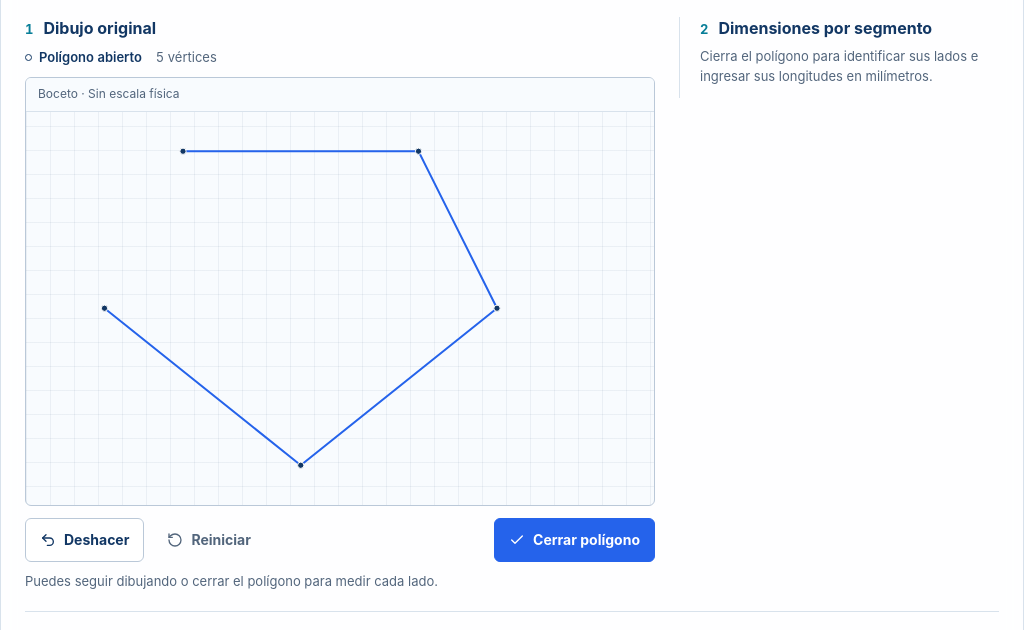
Test: HU-007 T02 — dimensiones y selección (caja negra) › T02-C05: dimensiones completas mantienen Agregar deshabilitado por registro pendiente
Click the button "Cerrar polígono": (575, 540) [494, 518, 655, 562]
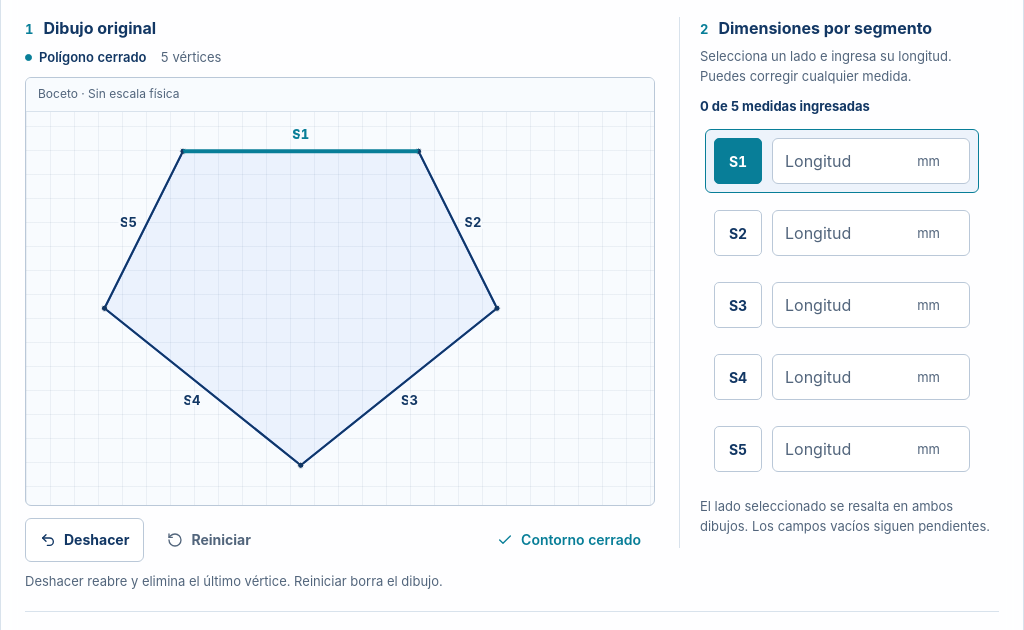
In the 1st number field with placeholder "Longitud": (871, 161) [772, 138, 970, 184], type "850"
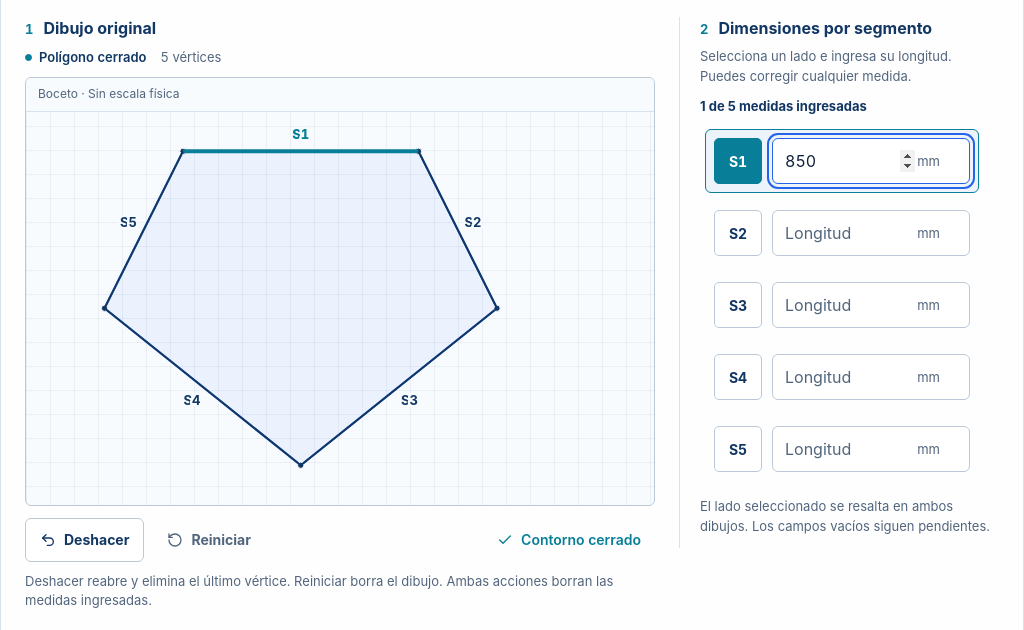
In the 1st number field with placeholder "Longitud": (871, 233) [772, 210, 970, 256], type "420"
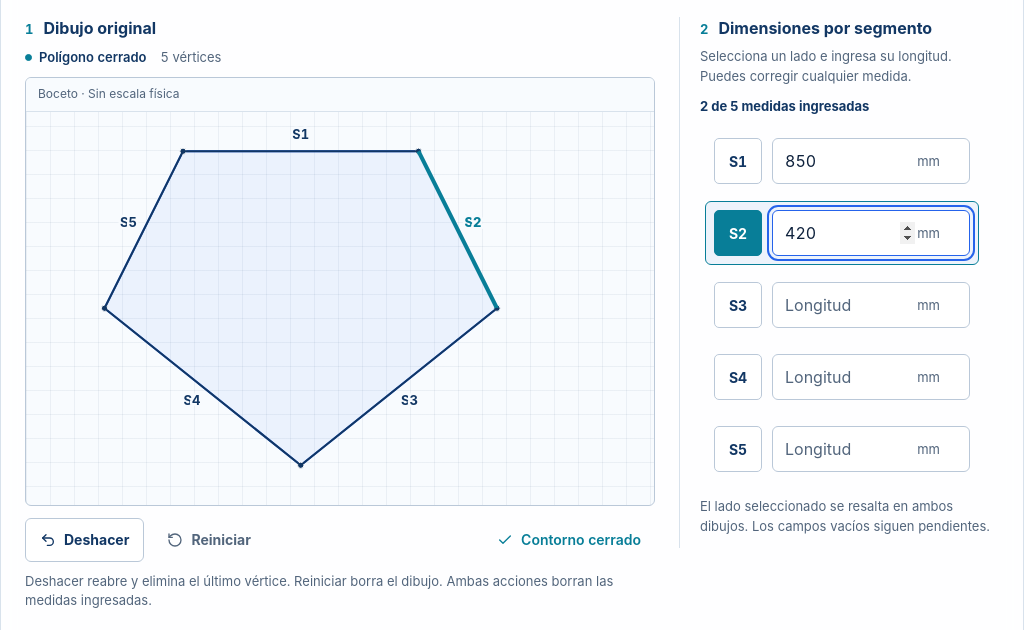
In the 1st number field with placeholder "Longitud": (871, 305) [772, 282, 970, 328], type "600"
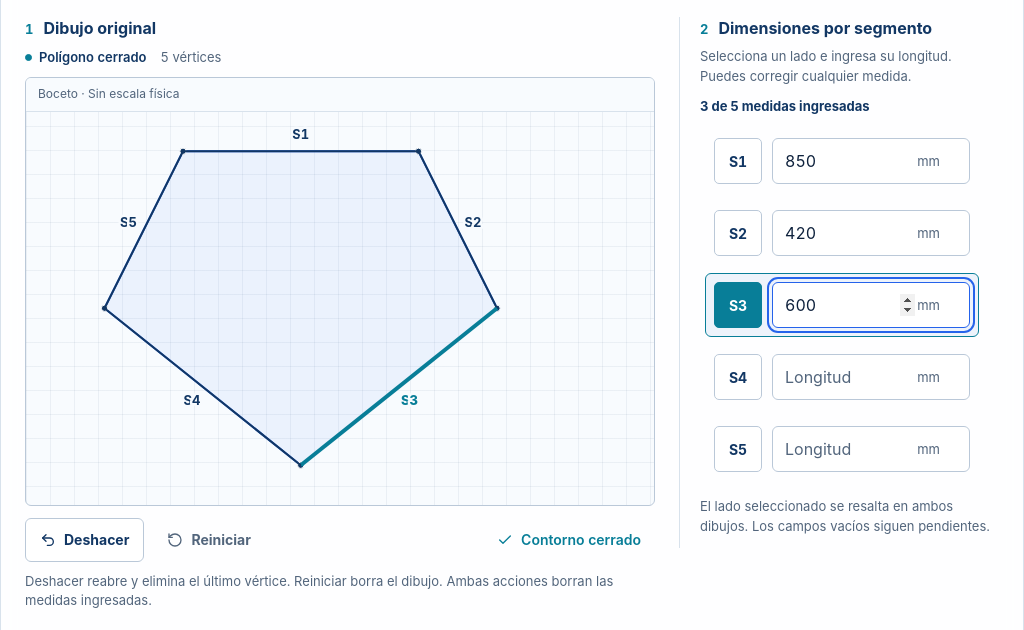
In the 1st number field with placeholder "Longitud": (871, 377) [772, 354, 970, 400], type "510"
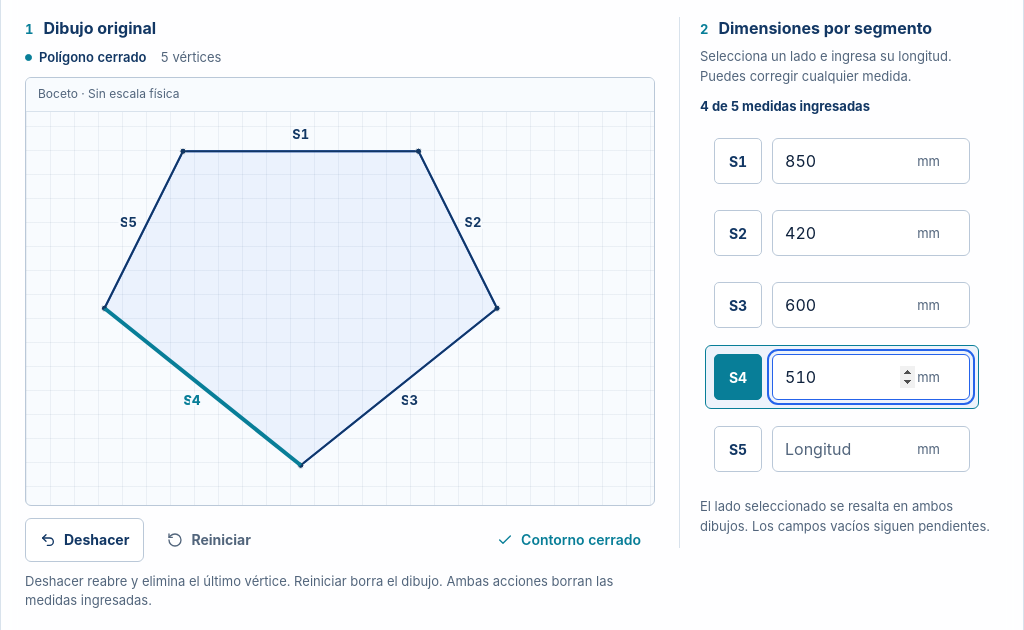
In the number field with placeholder "Longitud": (871, 449) [772, 426, 970, 472], type "730"
(page scrolled)
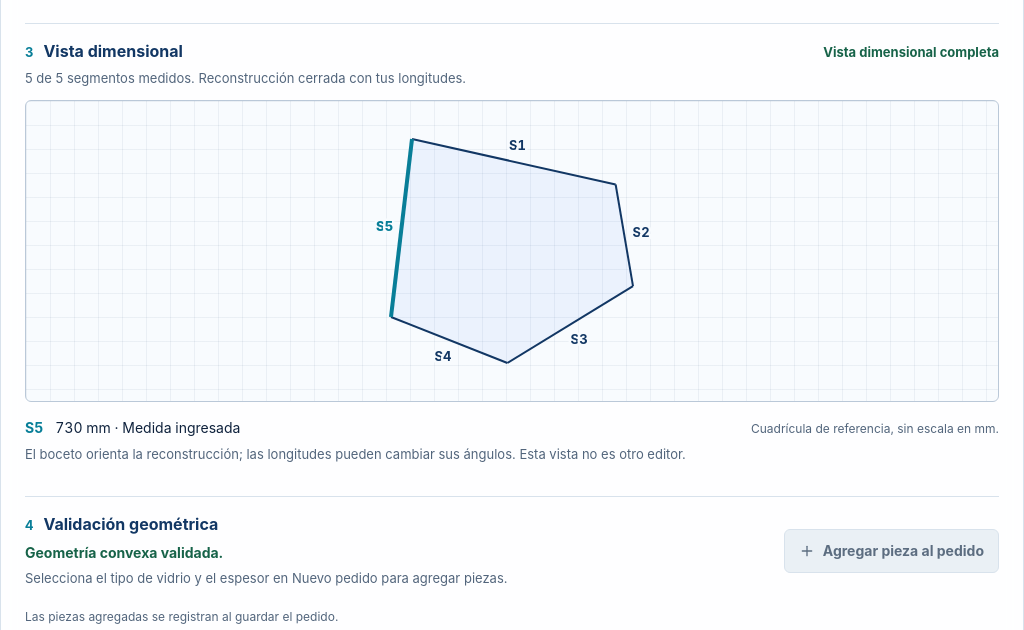
Check: the button "Agregar pieza al pedido" is disabled, box [784, 529, 999, 573]
Check: the text "Vista dimensional completa" is shown, box [823, 44, 999, 60]
Check: the picture named "Vista dimensional completa" is shown, box [26, 101, 998, 401]
